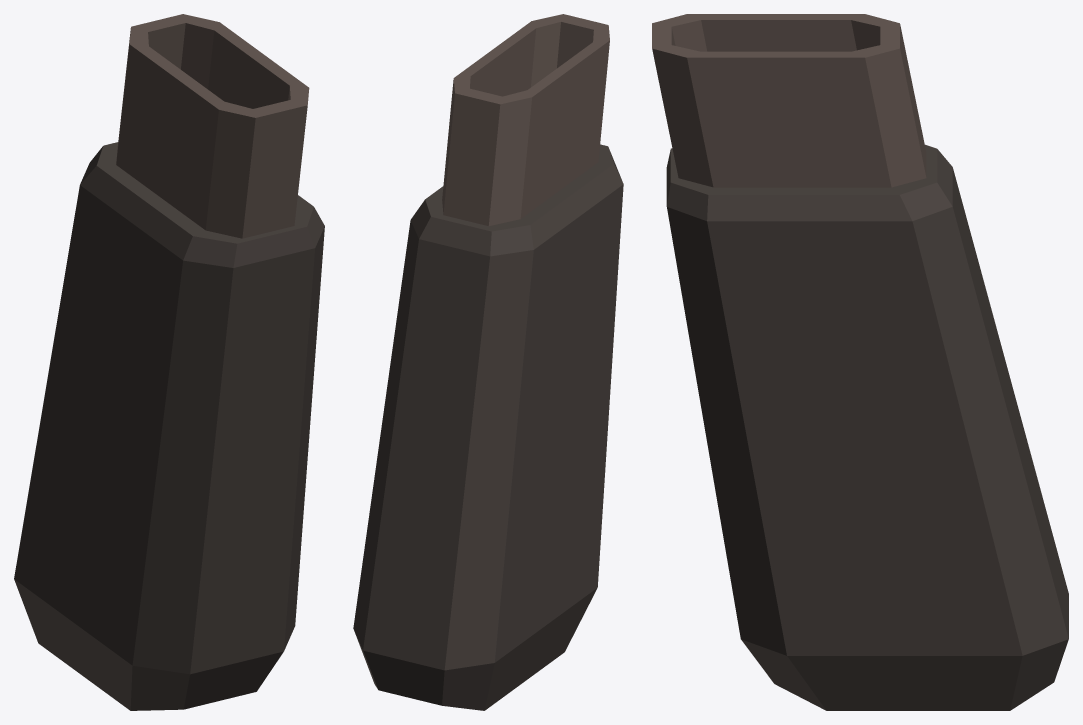
Rendered from Welrod_Gun.glb.
3 views of the same model, side by side, from view 1: azimuth 30°, elevation 25°; view 2: azimuth 150°, elevation 25°; view 3: azimuth 270°, elevation 25° (orthographic). The views are drawn at different scales.
Parts seen in each view (by area): view 1: WelrodImprovedMag; view 2: WelrodImprovedMag; view 3: WelrodImprovedMag.
Boxes of the visible parts, x1=… form: WelrodImprovedMag: x1=14, y1=14, x2=324, y2=710; WelrodImprovedMag: x1=353, y1=14, x2=623, y2=710; WelrodImprovedMag: x1=652, y1=14, x2=1068, y2=710.
Bounding box in the file's own units: 0.0327 × 0.1246 × 0.0731.
Materials: 1 (1 with a texture image).
